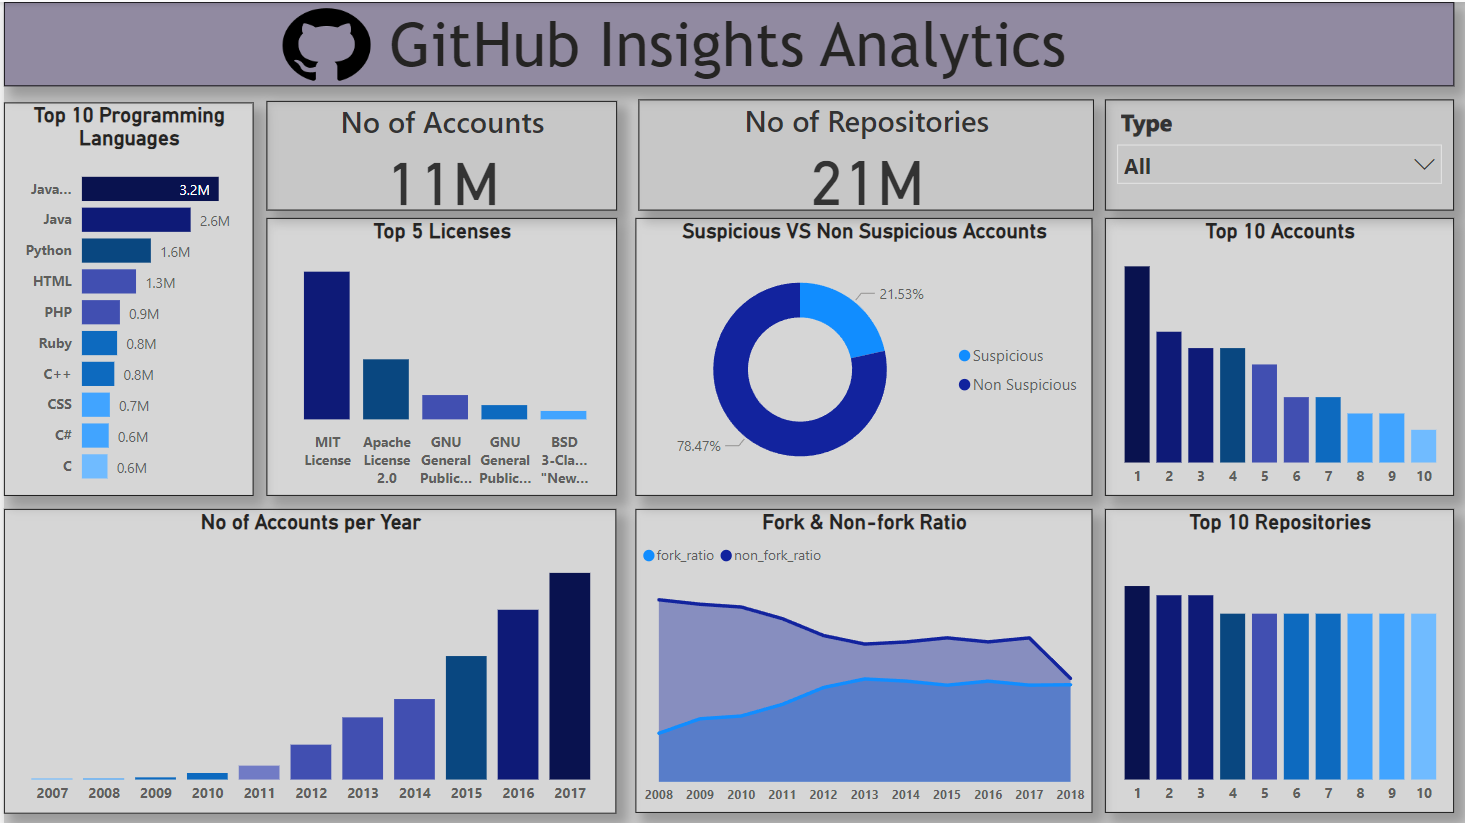

What the dashboard file says about the page in this screenshot:
{"tool":"powerbi","page":{"name":"Visualisation","canvas":[1280,720],"ordinal":0},"visuals":[{"type":"slicer","fields":{"Values":["count_of_id_by_year_and_month.type"]},"box":[959.2,84.7,304.1,96.8],"z":0},{"type":"card","title":"No of Accounts","fields":{"Values":["Sum(count_of_id_by_year_and_month.count)"]},"box":[228.3,86.7,305,95],"z":1000},{"type":"clusteredBarChart","title":"Top 10 Programming Languages","fields":{"Category":["count_of_language.language"],"Y":["Sum(count_of_language.id_count)"]},"box":[0,87.1,217.1,342.9],"z":2000},{"type":"clusteredColumnChart","title":"Top 5 Licenses","fields":{"Category":["license_view.license"],"Y":["Sum(license_view.no. of users)"]},"box":[228.3,188.3,305,241.7],"z":3000},{"type":"card","title":"No of Repositories","fields":{"Values":["Sum(repository_creation_count_by_type.repository count)"]},"box":[552.2,84.7,396.4,96.8],"z":4000},{"type":"clusteredColumnChart","title":"No of Accounts per Year","fields":{"Y":["Sum(count_of_id_by_year_and_month.count)"],"Category":["count_of_id_by_year_and_month.year_wise","count_of_id_by_year_and_month.month_wise"]},"box":[0,441.7,533.3,265],"z":5000},{"type":"areaChart","title":"Fork & Non-fork Ratio ","fields":{"Y":["Sum(repoforkratio.fork_ratio)","Sum(repoforkratio.non_fork_ratio)"],"Category":["repoforkratio.year"]},"box":[550.7,441.8,397.9,264.8],"z":6000},{"type":"donutChart","title":"Suspicious VS Non Suspicious Accounts","fields":{"Y":["Sum(view_suspicious_counts_by_year_month.suspicious_count)","Sum(view_suspicious_counts_by_year_month.non_suspicious_count)"]},"box":[550.7,187.6,397.9,242.1],"z":7000},{"type":"textbox","box":[0,0,1263.3,73.3],"z":8000},{"type":"clusteredColumnChart","title":"Top 10 Accounts","fields":{"Y":["Sum(final_top_10_accounts.score)"],"Category":["final_top_10_accounts.score_rank"]},"box":[959.2,187.6,304.1,242.1],"z":9000},{"type":"clusteredColumnChart","title":"Top 10 Repositories","fields":{"Y":["Sum(final_top_10_repos.score)"],"Category":["final_top_10_repos.score_rank"]},"box":[959.2,441.8,304.1,264.8],"z":12001},{"type":"image","box":[228.3,0,105,73.3],"z":12002}]}

Visuals, with their boxes in screenshot pixels (x1, y1, x2, y2), scaled from the page's 1280x720 canvas onto the 1465x823 screenshot:
slicer - count_of_id_by_year_and_month.type: 1098:97:1446:207
"No of Accounts" card: 261:99:610:208
"Top 10 Programming Languages" clusteredBarChart: 0:100:248:492
"Top 5 Licenses" clusteredColumnChart: 261:215:610:492
"No of Repositories" card: 632:97:1086:207
"No of Accounts per Year" clusteredColumnChart: 0:505:610:808
"Fork & Non-fork Ratio " areaChart: 630:505:1086:808
"Suspicious VS Non Suspicious Accounts" donutChart: 630:214:1086:491
textbox: 0:0:1446:84
"Top 10 Accounts" clusteredColumnChart: 1098:214:1446:491
"Top 10 Repositories" clusteredColumnChart: 1098:505:1446:808
image: 261:0:381:84
